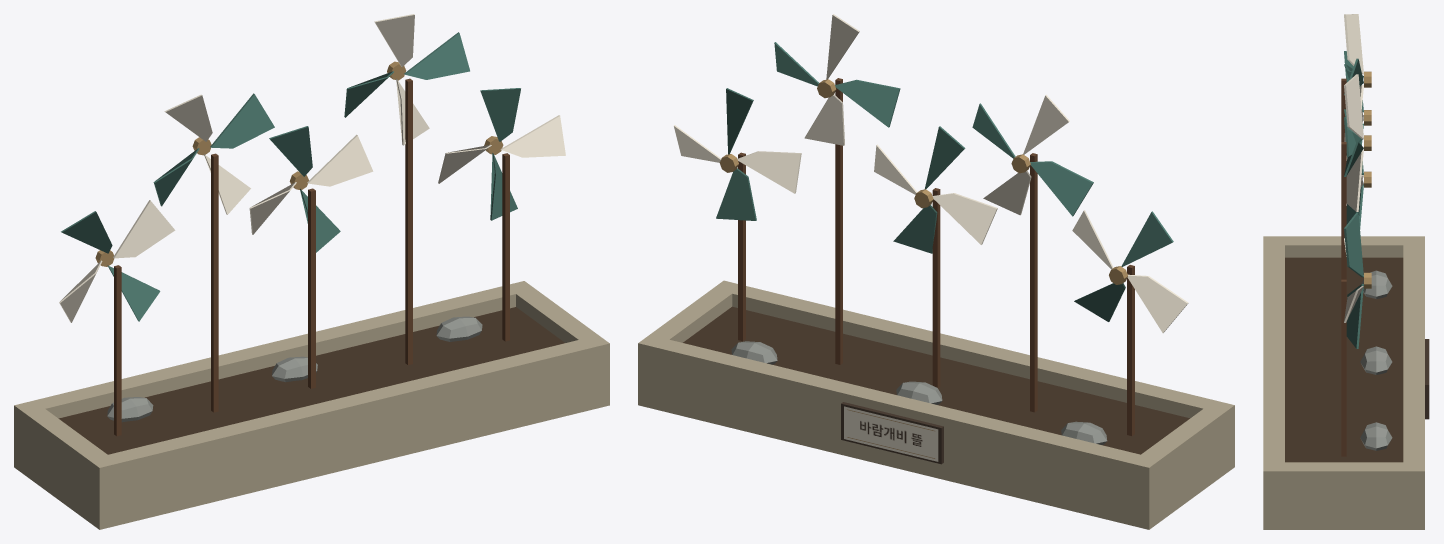
The model's file is F08_Pinwheel_Garden.fbx.
The picture shows the model from 3 angles, left to right: view 1: azimuth 30°, elevation 25°; view 2: azimuth 150°, elevation 25°; view 3: azimuth 270°, elevation 25°; orthographic projection. The views are drawn at different scales.
Parts seen in each view (by area): view 1: Pinwheel_Planter, Pinwheel_Posts, Rotor_1, Rotor_2, Rotor_5, Rotor_4, Rotor_3; view 2: Pinwheel_Planter, Pinwheel_Posts, Rotor_4, Rotor_5, Rotor_3, Rotor_2, Rotor_1, Front_Label; view 3: Pinwheel_Planter, Pinwheel_Posts, Rotor_4, Rotor_5, Rotor_2, Rotor_3, Front_Label, Rotor_1.
Boxes of the visible parts, x1,y1,x2,y2 form: Pinwheel_Planter: (14, 281, 609, 529); Pinwheel_Posts: (114, 78, 509, 436); Rotor_1: (59, 200, 175, 322); Rotor_2: (153, 93, 274, 214); Rotor_5: (438, 88, 565, 220); Rotor_4: (344, 14, 469, 145); Rotor_3: (249, 126, 373, 252); Pinwheel_Planter: (638, 280, 1234, 529); Pinwheel_Posts: (738, 78, 1134, 435); Rotor_4: (774, 14, 900, 145); Rotor_5: (674, 88, 801, 220); Rotor_3: (874, 126, 997, 253); Rotor_2: (972, 94, 1093, 216); Rotor_1: (1072, 210, 1188, 332); Front_Label: (841, 402, 943, 464); Pinwheel_Planter: (1263, 236, 1424, 529); Pinwheel_Posts: (1341, 78, 1346, 456); Rotor_4: (1344, 74, 1371, 211); Rotor_5: (1344, 212, 1371, 348); Rotor_2: (1344, 14, 1371, 141); Rotor_3: (1344, 117, 1371, 229); Front_Label: (1425, 339, 1429, 419); Rotor_1: (1344, 51, 1371, 155).
Bounding box in the file's own units: 3.1 × 2.3 × 0.927.
Materials: 9 (1 with a texture image).
